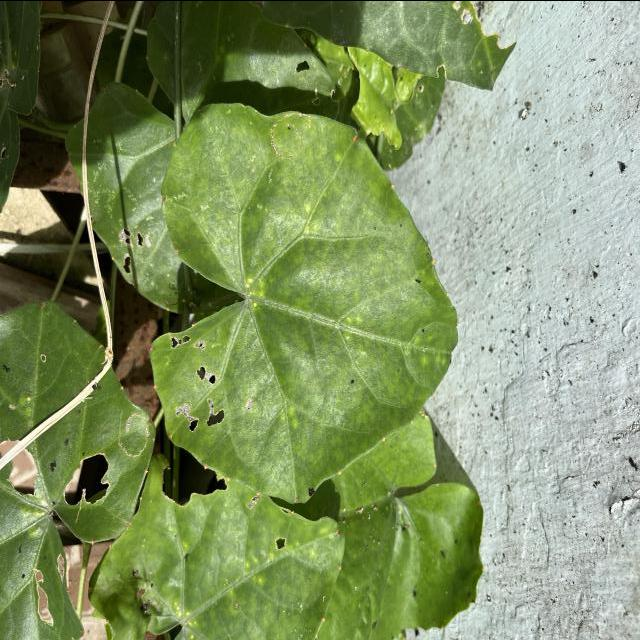Coccinia grandis: (147, 96, 462, 508)
